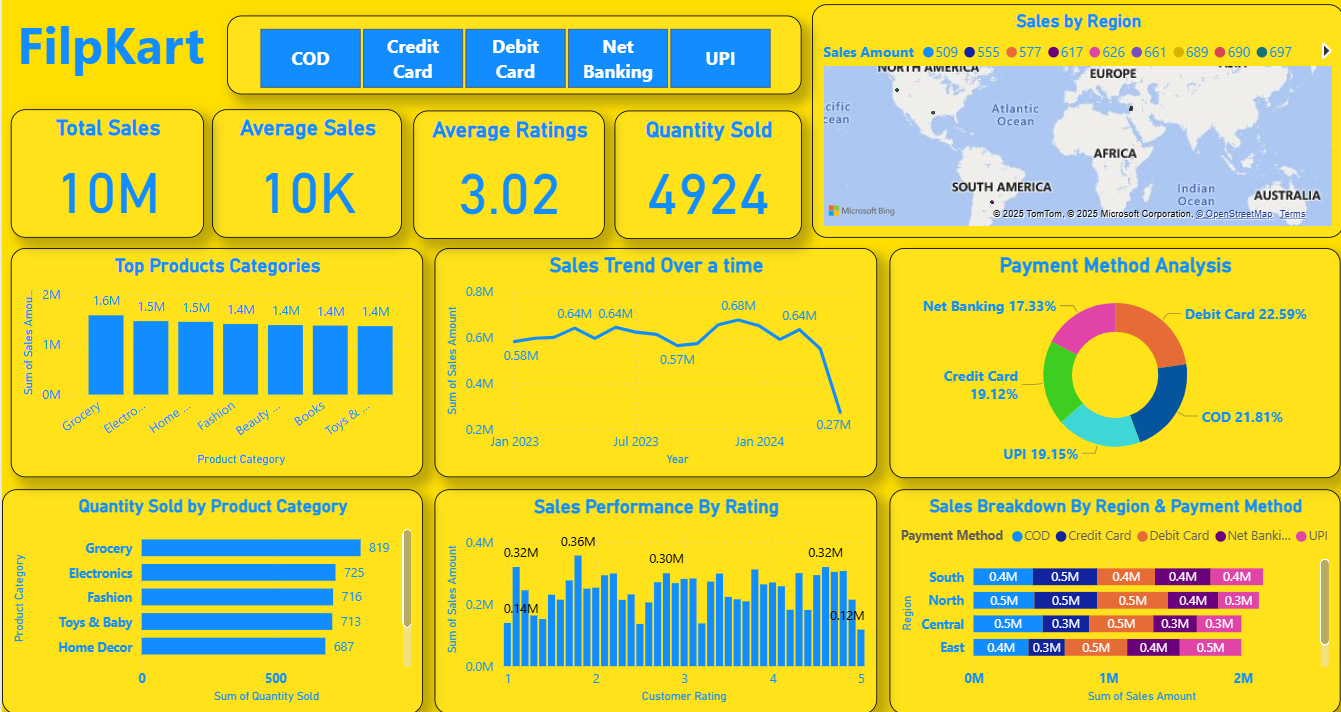

The dashboard page shown, as its layout file describes it:
{"tool":"powerbi","page":{"name":"Flipkart","canvas":[1280,720],"ordinal":0},"visuals":[{"type":"card","title":"Total Sales","fields":{"Values":["Sum(Sheet1.Sales Amount)"]},"box":[8.2,144.1,183.9,122.1],"z":0},{"type":"card","title":"Average Sales","fields":{"Values":["Avg(Sheet1.Sales Amount)"]},"box":[200.3,144.1,181.1,122.1],"z":1000},{"type":"card","title":"Average Ratings","fields":{"Values":["Avg(Sheet1.Customer Rating)"]},"box":[391.1,145.5,182.5,122.1],"z":2000},{"type":"card","title":"Quantity Sold","fields":{"Values":["Sum(Sheet1.Quantity Sold)"]},"box":[583.2,145.5,178.4,122.1],"z":3000},{"type":"map","title":" Sales by Region ","fields":{"Category":["Sheet1.Region"],"Series":["Sheet1.Sales Amount"]},"box":[771.2,43.9,506.3,222.3],"z":4000},{"type":"columnChart","title":"Top Products Categories","fields":{"Category":["Sheet1.Product Category"],"Y":["Sum(Sheet1.Sales Amount)"]},"box":[8.2,275.8,392.5,218.2],"z":5000},{"type":"lineChart","title":"Sales Trend Over a time","fields":{"Category":["Sheet1.Order Date.Variation.Date Hierarchy.Year","Sheet1.Order Date.Variation.Date Hierarchy.Quarter","Sheet1.Order Date.Variation.Date Hierarchy.Month","Sheet1.Order Date.Variation.Date Hierarchy.Day"],"Y":["Sum(Sheet1.Sales Amount)"]},"box":[411.7,275.8,421.3,218.2],"z":6000},{"type":"donutChart","title":" Payment Method Analysis","fields":{"Category":["Sheet1.Payment Method"],"Y":["Sum(Sheet1.Sales Amount)"]},"box":[845.3,275.8,429.5,219.6],"z":7000},{"type":"clusteredBarChart","title":" Quantity Sold by Product Category","fields":{"Category":["Sheet1.Product Category"],"Y":["Sum(Sheet1.Quantity Sold)"]},"box":[0,506.3,400.7,214.1],"z":8000},{"type":"clusteredColumnChart","title":"Sales Performance By Rating","fields":{"Category":["Sheet1.Customer Rating"],"Y":["Sum(Sheet1.Sales Amount)"]},"box":[411.7,506.3,421.3,214.1],"z":9000},{"type":"barChart","title":"Sales Breakdown By Region & Payment Method","fields":{"Category":["Sheet1.Region"],"Y":["Sum(Sheet1.Sales Amount)"],"Series":["Sheet1.Payment Method"]},"box":[845.3,506.3,429.5,214.1],"z":10000},{"type":"slicer","fields":{"Values":["Sheet1.Payment Method"]},"box":[214.1,54.9,547.5,75.5],"z":11000},{"type":"textbox","box":[9.6,43.9,194.9,86.4],"z":12000}]}

Visuals, with their boxes in screenshot pixels (x1, y1, x2, y2):
"Total Sales" card: left=9, top=109, right=201, bottom=237
"Average Sales" card: left=210, top=109, right=400, bottom=237
"Average Ratings" card: left=410, top=111, right=602, bottom=239
"Quantity Sold" card: left=612, top=111, right=799, bottom=239
" Sales by Region " map: left=809, top=4, right=1340, bottom=237
"Top Products Categories" columnChart: left=9, top=247, right=420, bottom=476
"Sales Trend Over a time" lineChart: left=432, top=247, right=874, bottom=476
" Payment Method Analysis" donutChart: left=887, top=247, right=1337, bottom=478
" Quantity Sold by Product Category" clusteredBarChart: left=0, top=489, right=420, bottom=711
"Sales Performance By Rating" clusteredColumnChart: left=432, top=489, right=874, bottom=711
"Sales Breakdown By Region & Payment Method" barChart: left=887, top=489, right=1337, bottom=711
slicer - Sheet1.Payment Method: left=225, top=16, right=799, bottom=95
textbox: left=10, top=4, right=214, bottom=95
